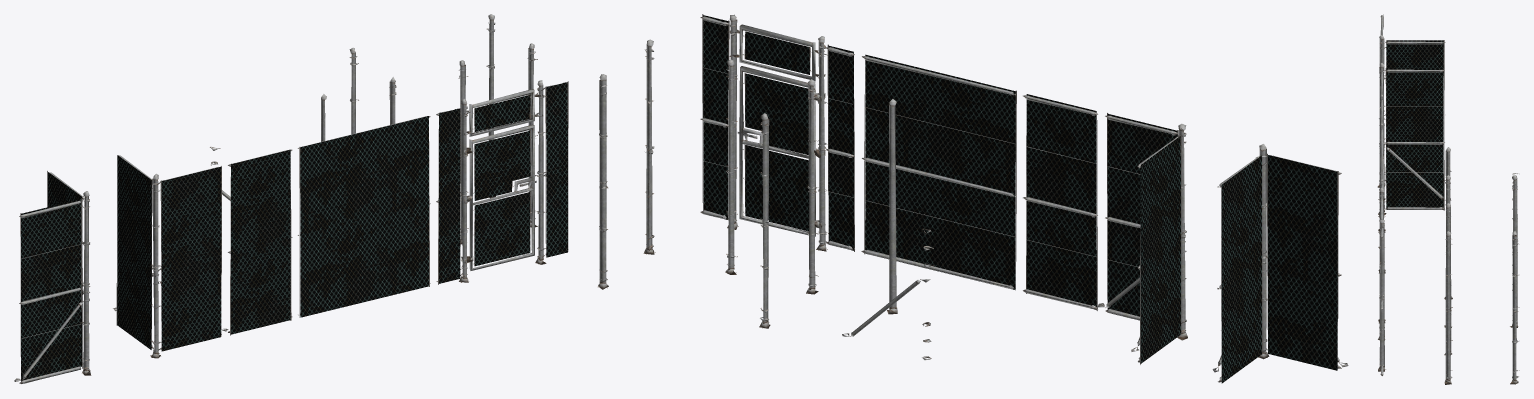
The picture shows the model from 3 angles, left to right: view 1: azimuth 30°, elevation 25°; view 2: azimuth 150°, elevation 25°; view 3: azimuth 270°, elevation 25°; orthographic projection. The views are drawn at different scales.
Visible parts, largest first — view 1: modular_chainlink_fence_door_latch, modular_chainlink_fence_door_latch.001; view 2: modular_chainlink_fence_door_latch, modular_chainlink_fence_door_latch.001; view 3: modular_chainlink_fence_door_latch, modular_chainlink_fence_door_latch.001.
Boxes of the visible parts, x1,y1,x2,y2 form: modular_chainlink_fence_door_latch: (21,82,567,383); modular_chainlink_fence_door_latch.001: (14,14,568,383); modular_chainlink_fence_door_latch: (703,15,1337,383); modular_chainlink_fence_door_latch.001: (598,14,1348,382); modular_chainlink_fence_door_latch: (1386,40,1443,209); modular_chainlink_fence_door_latch.001: (1377,14,1519,384).
Bounding box in the file's own units: 8.12 × 2.53 × 2.15.
2 materials, 2 textured.
